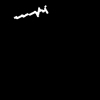double_crochet: (14, 6, 47, 18)
